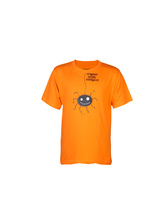clothoes: (39, 59, 134, 168)
